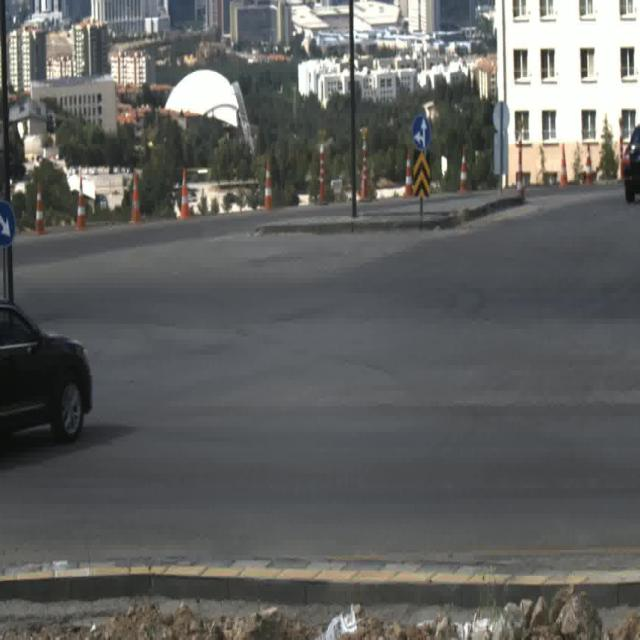Car: (0, 301, 99, 450), (620, 128, 640, 206)
